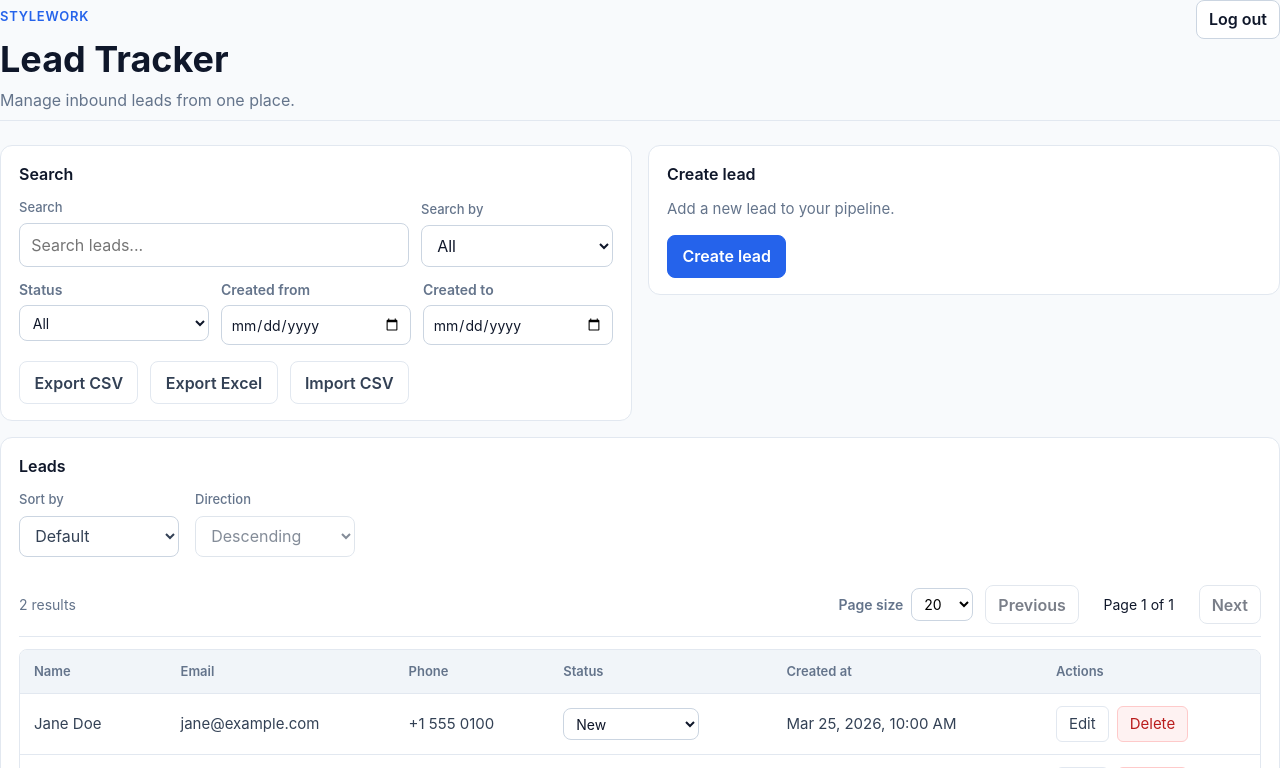
Test: LeadTrackerPage › create lead › shows a validation error for invalid email
Check: the text "Jane Doe" is shown, box [20,694,166,755]
Step 1. Click the button "Create lead" → (727, 256), box [667,235,786,278]
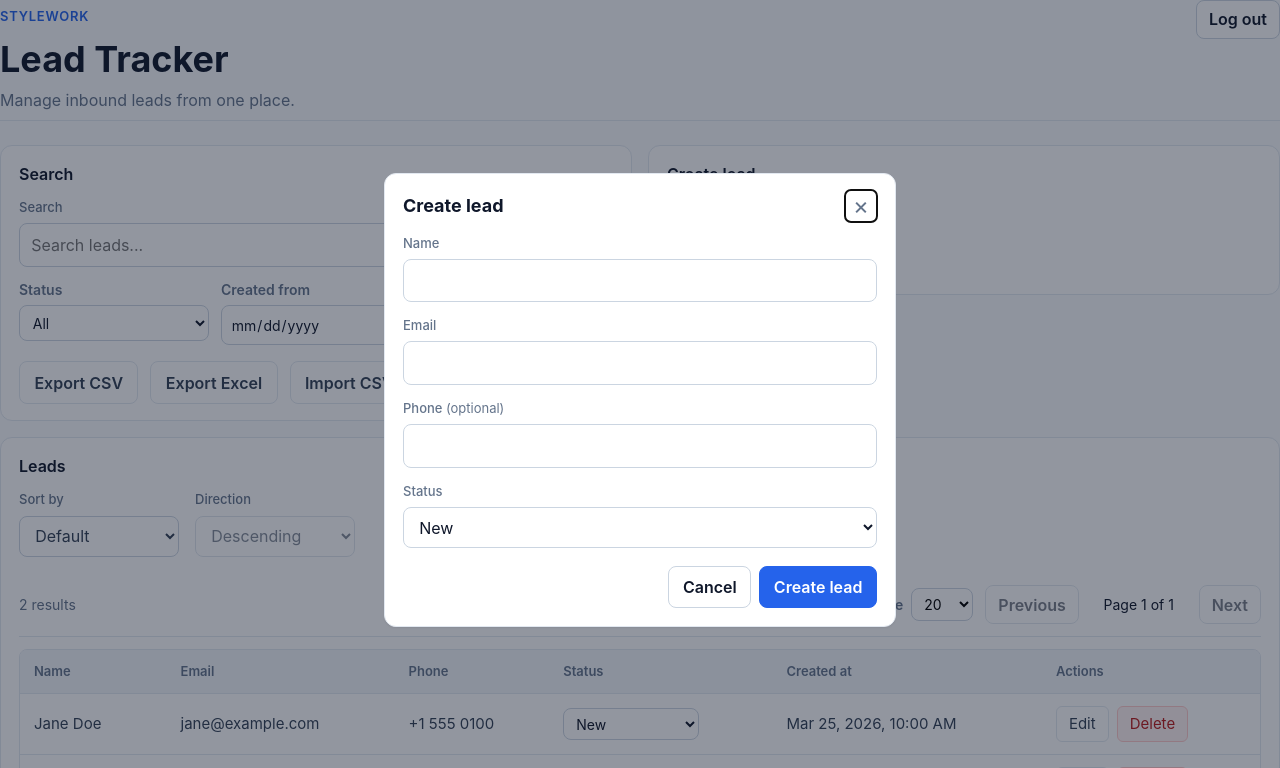
Step 2. Type "Jane Doe" into the field labelled "Name" → (640, 280), box [403,259,877,302]
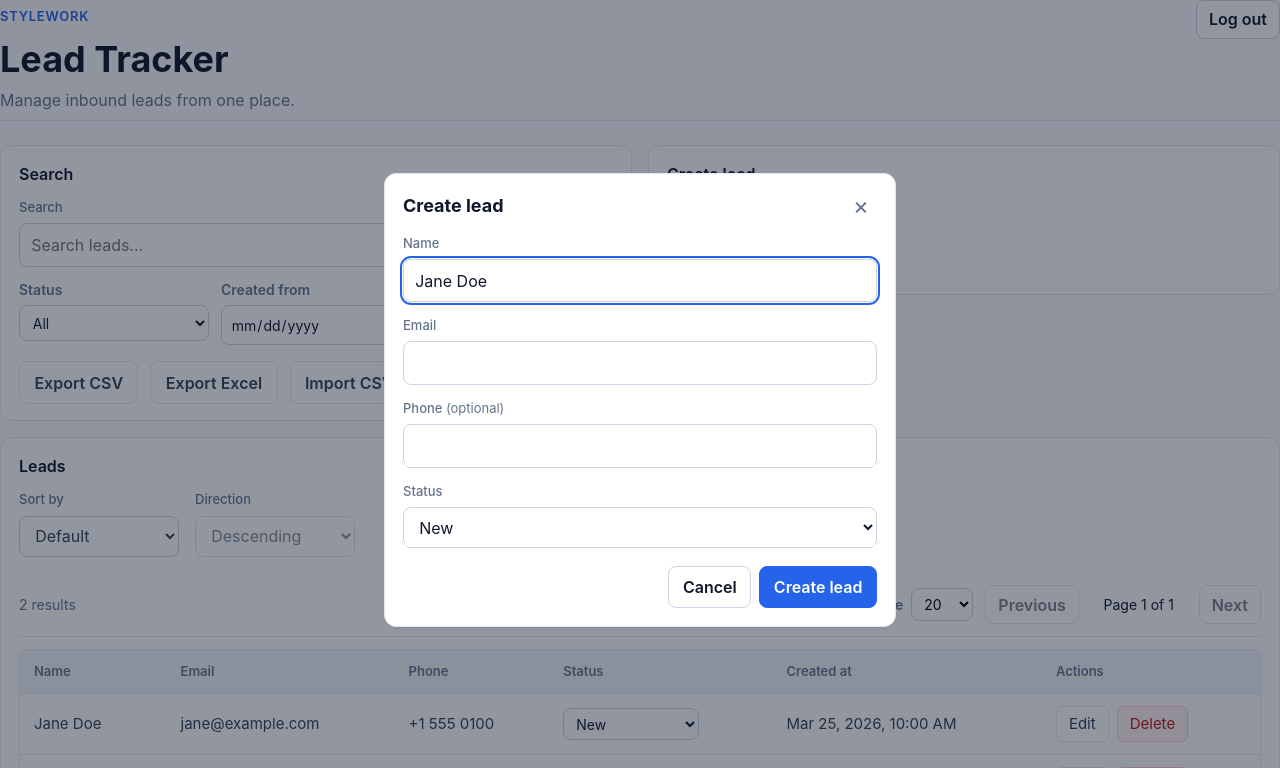
Step 3. Type "not-an-email" into the field labelled "Email" → (640, 363), box [403,341,877,385]
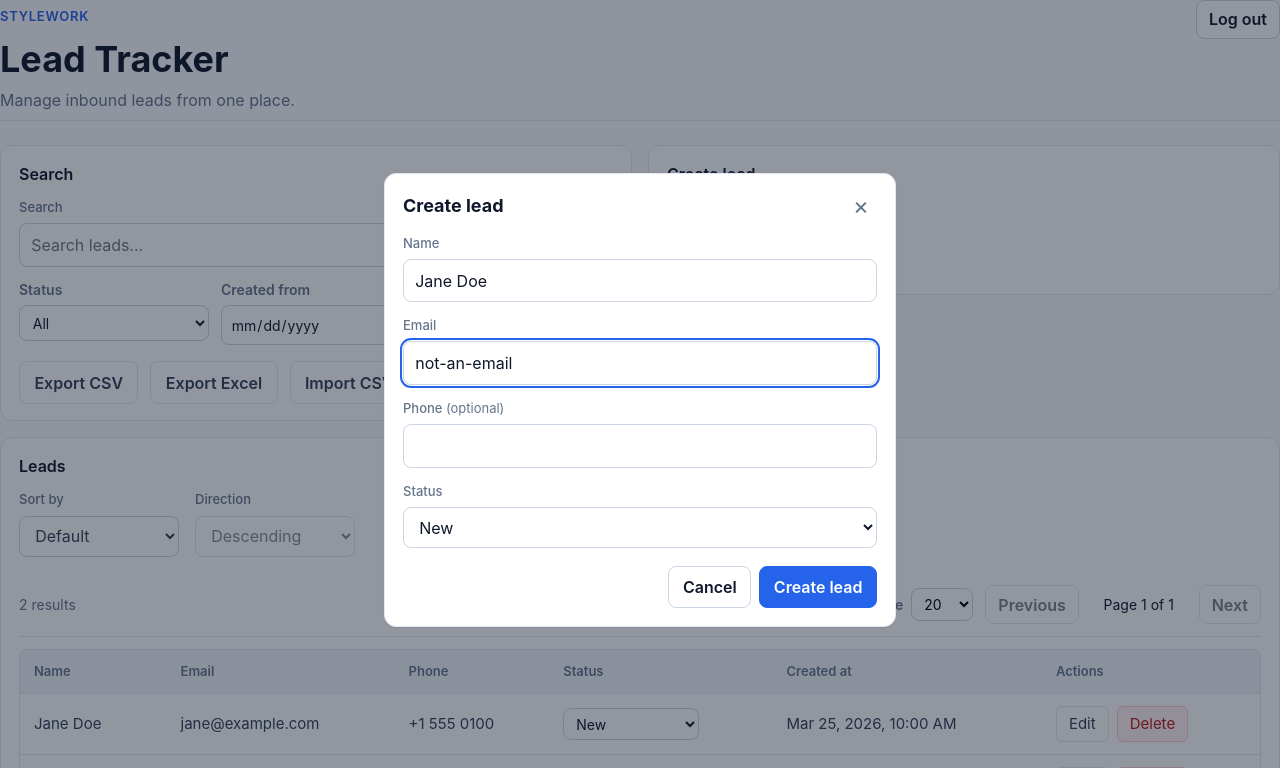
Step 4. Click the button "Create lead" → (818, 587), box [759,566,877,608]
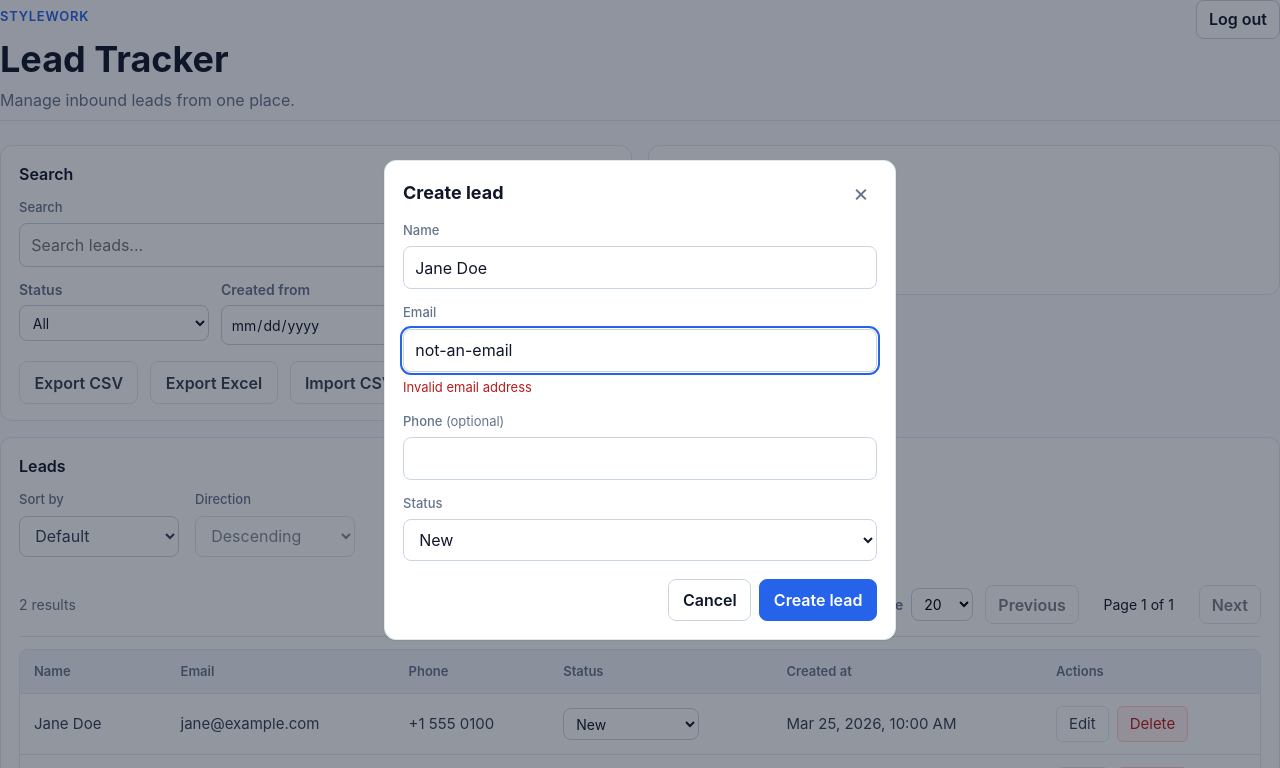
Check: the text "Invalid email address" is shown, box [403,379,532,395]
